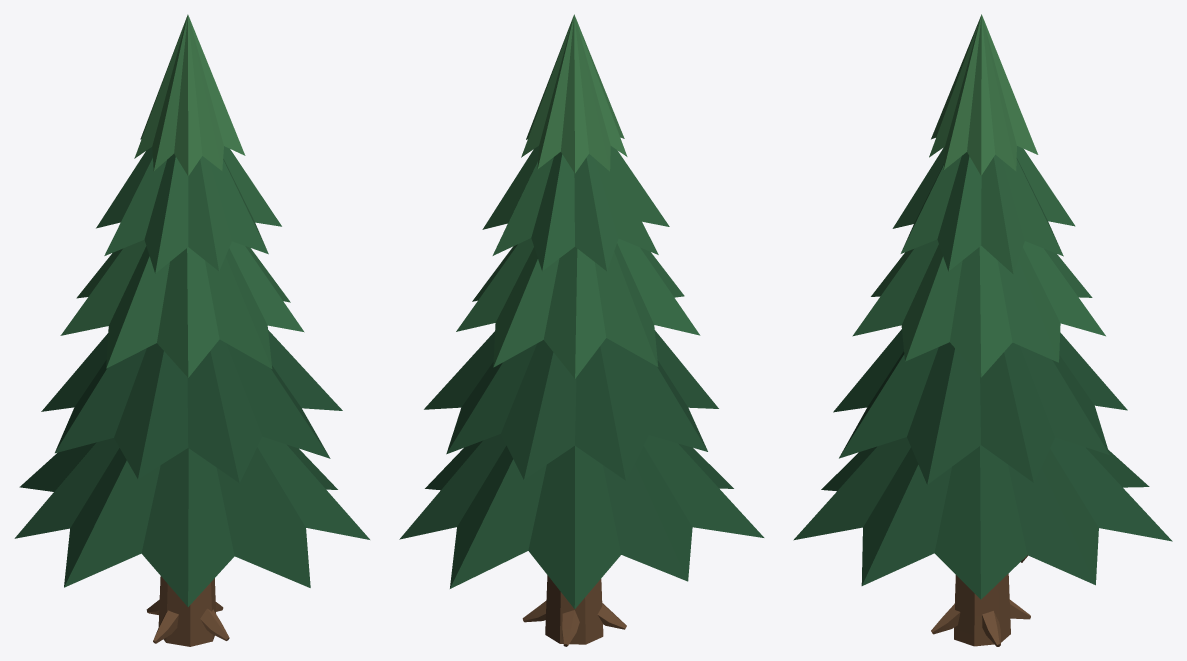
File: tree-pine.glb
3 renders of one model, left to right at view 1: azimuth 30°, elevation 25°; view 2: azimuth 150°, elevation 25°; view 3: azimuth 270°, elevation 25°, orthographic.
Visible parts, largest first — view 1: TreePine_NeedlesDark, TreePine_Needles, TreePine_NeedlesLight, TreePine_Bark; view 2: TreePine_NeedlesDark, TreePine_Needles, TreePine_NeedlesLight, TreePine_Bark; view 3: TreePine_NeedlesDark, TreePine_Needles, TreePine_NeedlesLight, TreePine_Bark.
Part boxes in pixels (x1,y1,x2,y2): TreePine_NeedlesDark: (14, 330, 369, 606); TreePine_Needles: (60, 146, 304, 377); TreePine_NeedlesLight: (134, 14, 245, 176); TreePine_Bark: (146, 576, 229, 646); TreePine_NeedlesDark: (399, 330, 764, 608); TreePine_Needles: (456, 146, 700, 378); TreePine_NeedlesLight: (521, 14, 627, 173); TreePine_Bark: (522, 575, 626, 646); TreePine_NeedlesDark: (793, 329, 1172, 599); TreePine_Needles: (852, 146, 1105, 377); TreePine_NeedlesLight: (929, 14, 1038, 175); TreePine_Bark: (931, 555, 1030, 646).
Size of the model in its own units: 8.88 by 17.1 by 9.49.
